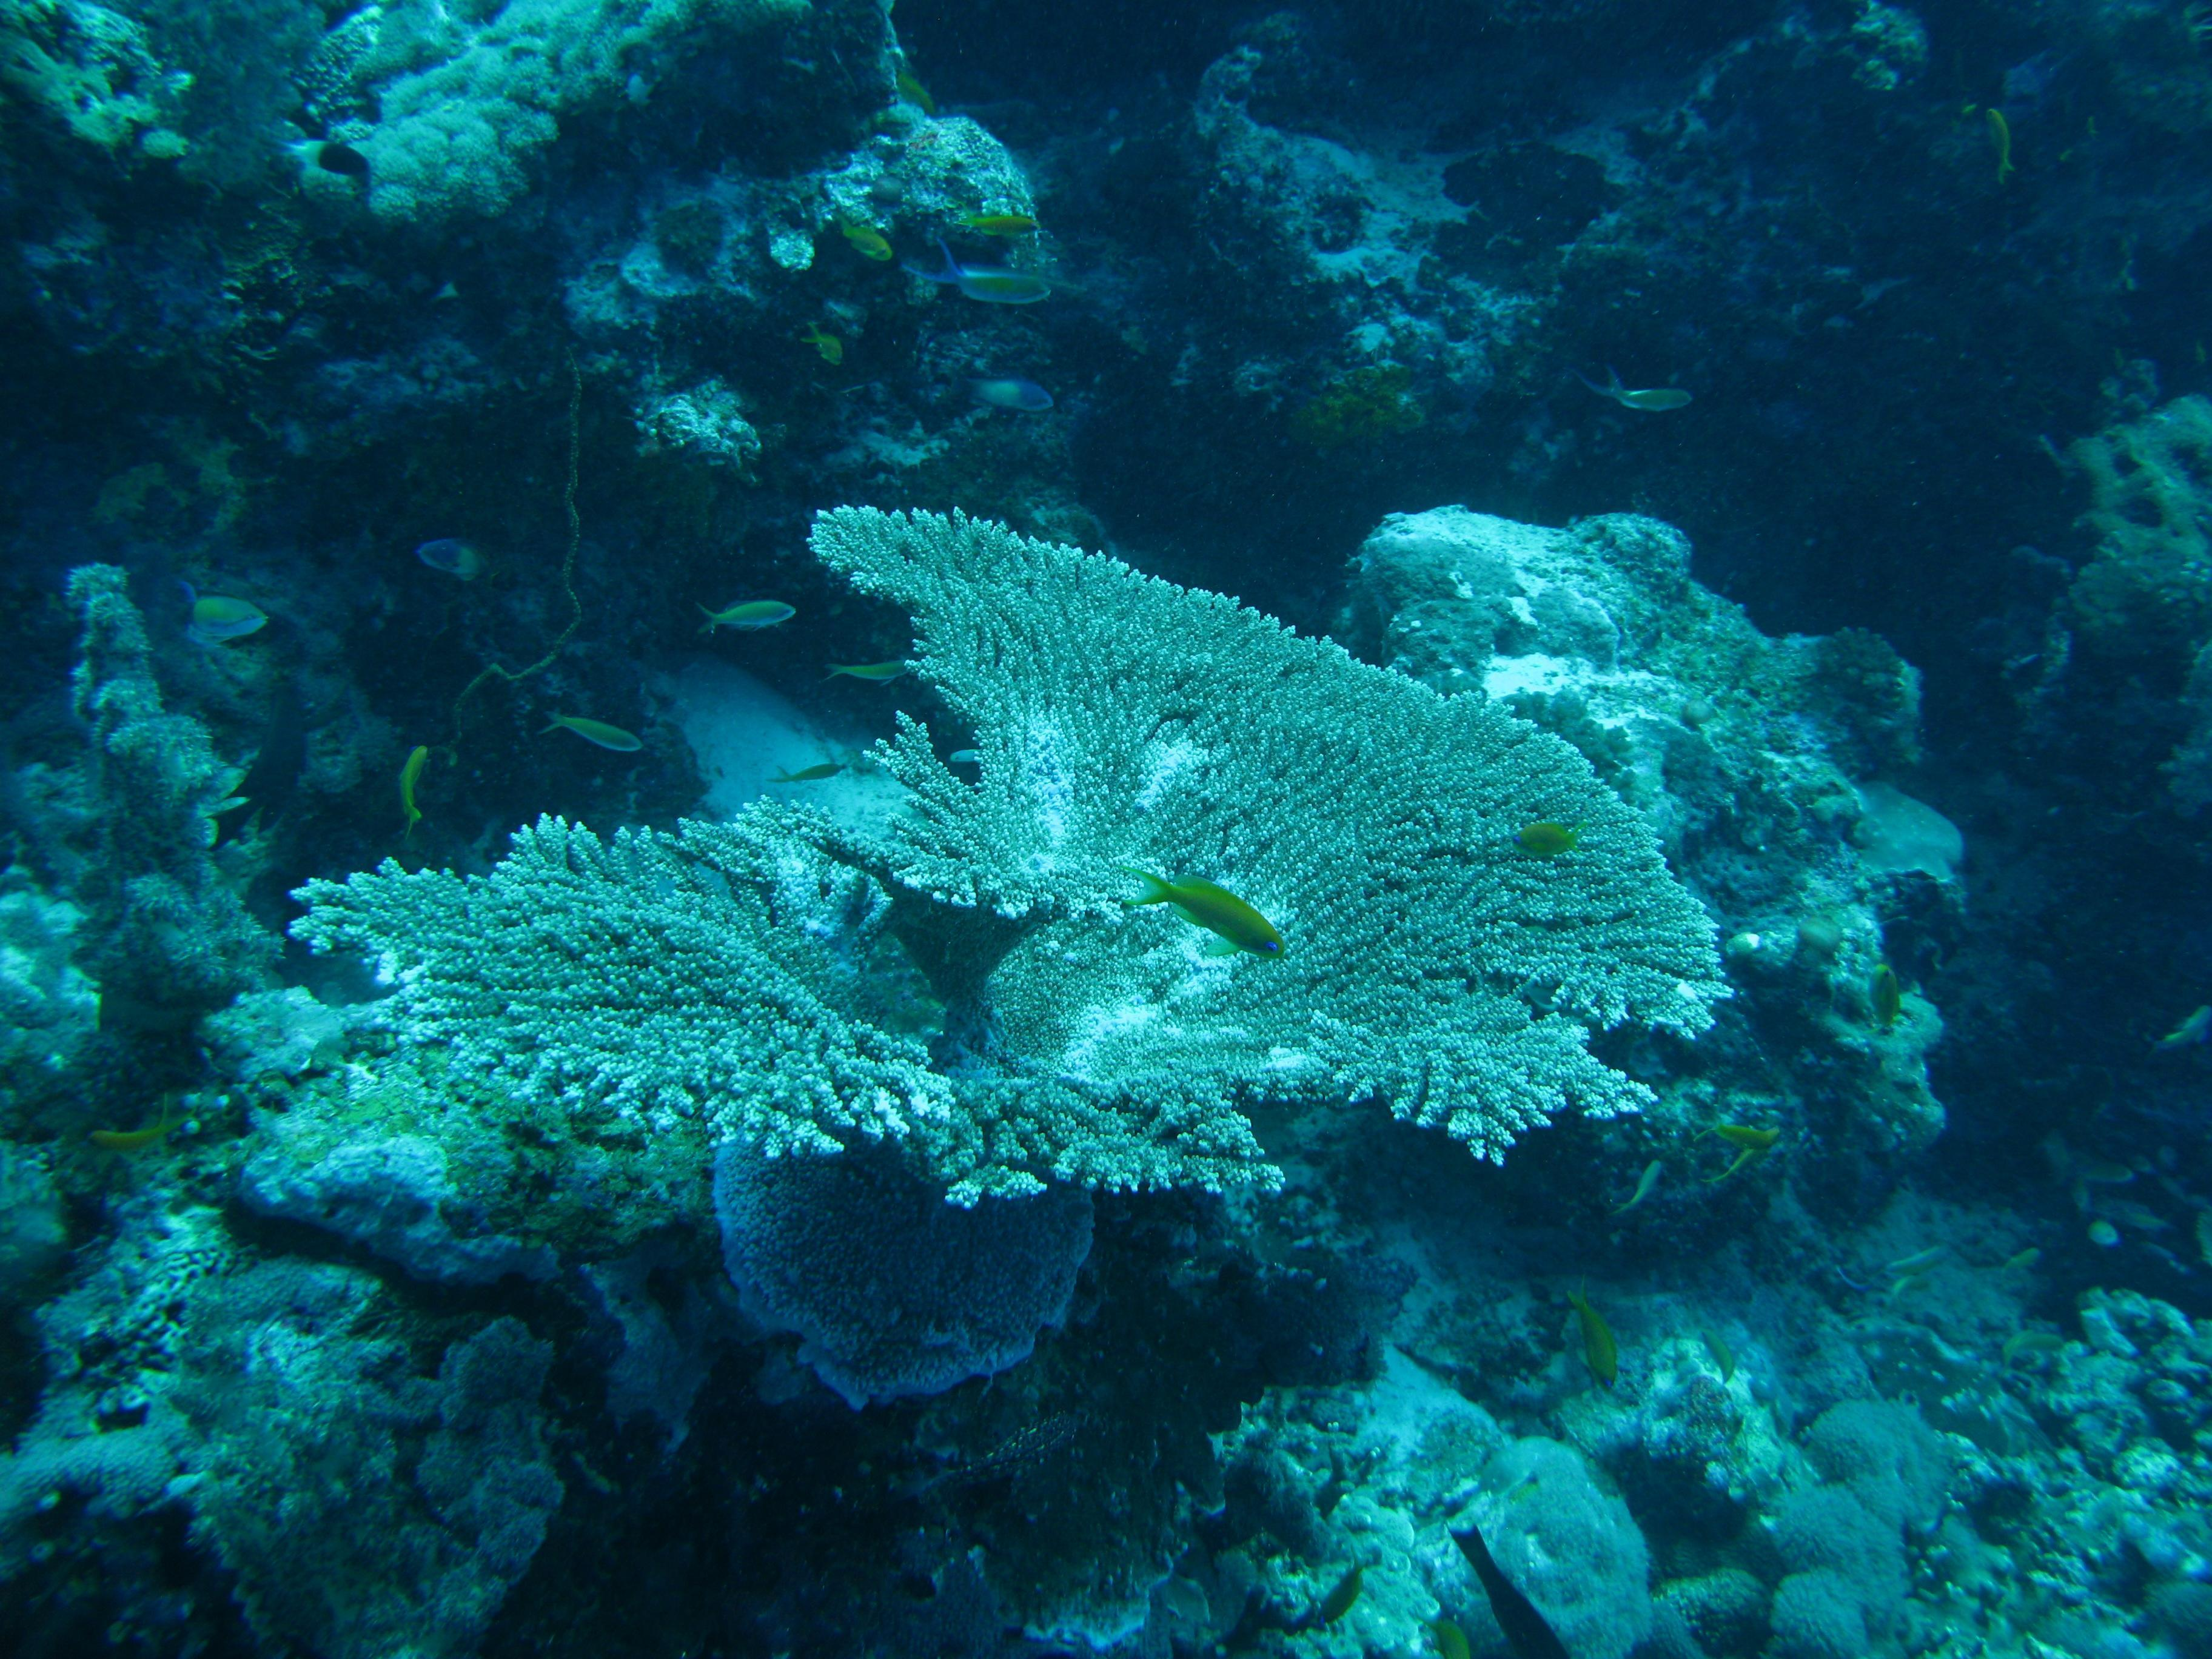Pseadanthias squamipinnis: (1106, 843, 1301, 997)
